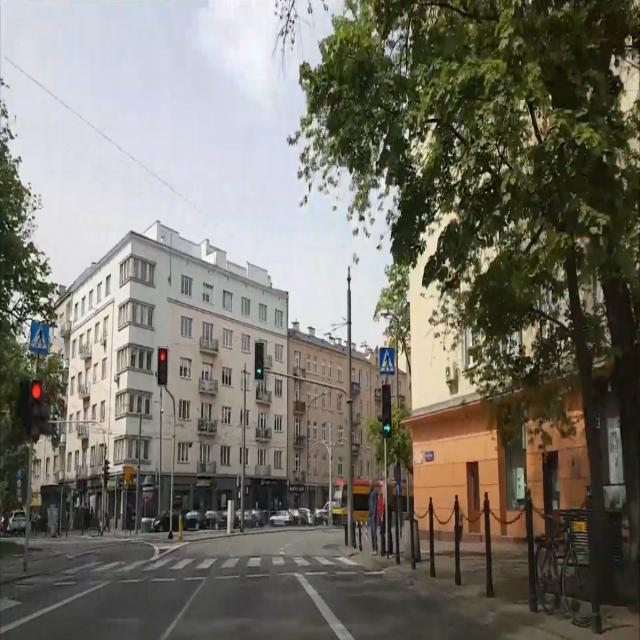Przejscie dla pieszych: (30, 320, 50, 355), (378, 346, 396, 376)
Ustap pierwszenstwa: (122, 464, 135, 483)
